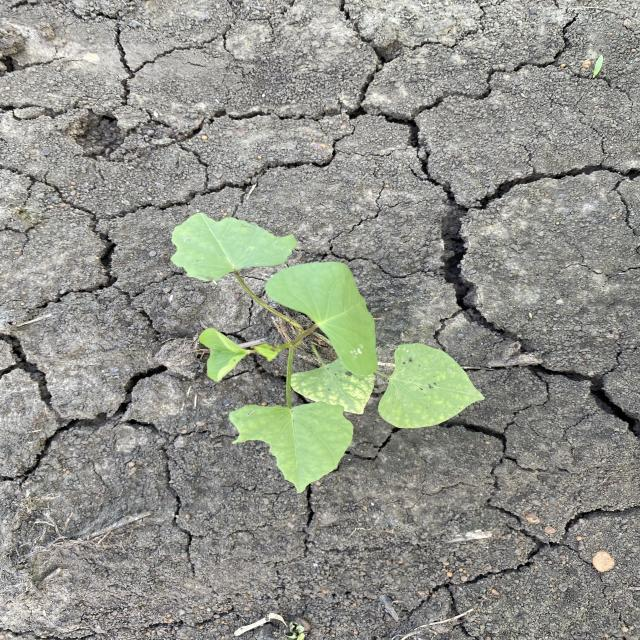MorningGlory: (168, 210, 488, 494)
